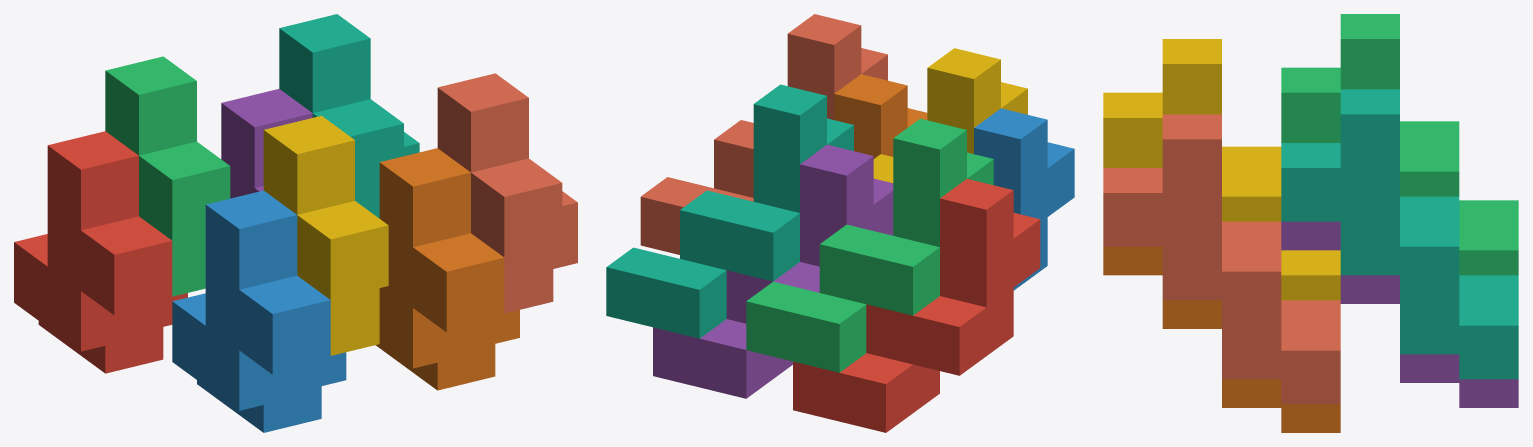
File: tiling.obj
3 views of the same model, side by side, from view 1: azimuth 30°, elevation 25°; view 2: azimuth 150°, elevation 25°; view 3: azimuth 270°, elevation 25° (orthographic). The views are drawn at different scales.
Parts seen in each view (by area): view 1: copy_1_domain_2, copy_1_domain_1, copy_1_domain_6, copy_1_domain_8, copy_1_domain_4, copy_1_domain_3, copy_1_domain_7, copy_1_domain_5; view 2: copy_1_domain_1, copy_1_domain_3, copy_1_domain_7, copy_1_domain_5, copy_1_domain_8, copy_1_domain_2, copy_1_domain_4, copy_1_domain_6; view 3: copy_1_domain_7, copy_1_domain_8, copy_1_domain_3, copy_1_domain_4, copy_1_domain_5, copy_1_domain_6.
Boxes of the visible parts, <box> form: copy_1_domain_2: <box>172,190,346,432</box>; copy_1_domain_1: <box>14,131,187,373</box>; copy_1_domain_6: <box>375,148,519,390</box>; copy_1_domain_8: <box>437,73,577,313</box>; copy_1_domain_4: <box>263,115,388,355</box>; copy_1_domain_3: <box>105,56,230,296</box>; copy_1_domain_7: <box>279,14,419,218</box>; copy_1_domain_5: <box>221,89,312,198</box>; copy_1_domain_1: <box>793,179,1040,432</box>; copy_1_domain_3: <box>746,118,993,372</box>; copy_1_domain_7: <box>606,84,853,338</box>; copy_1_domain_5: <box>653,144,893,398</box>; copy_1_domain_8: <box>640,14,887,254</box>; copy_1_domain_2: <box>974,108,1074,290</box>; copy_1_domain_4: <box>873,48,1027,182</box>; copy_1_domain_6: <box>834,74,927,158</box>; copy_1_domain_7: <box>1281,89,1518,379</box>; copy_1_domain_8: <box>1103,114,1340,404</box>; copy_1_domain_3: <box>1281,14,1518,275</box>; copy_1_domain_4: <box>1103,39,1340,300</box>; copy_1_domain_5: <box>1281,221,1518,407</box>; copy_1_domain_6: <box>1103,246,1340,432</box>.
Size of the model in its own units: 8 by 5 by 7.
